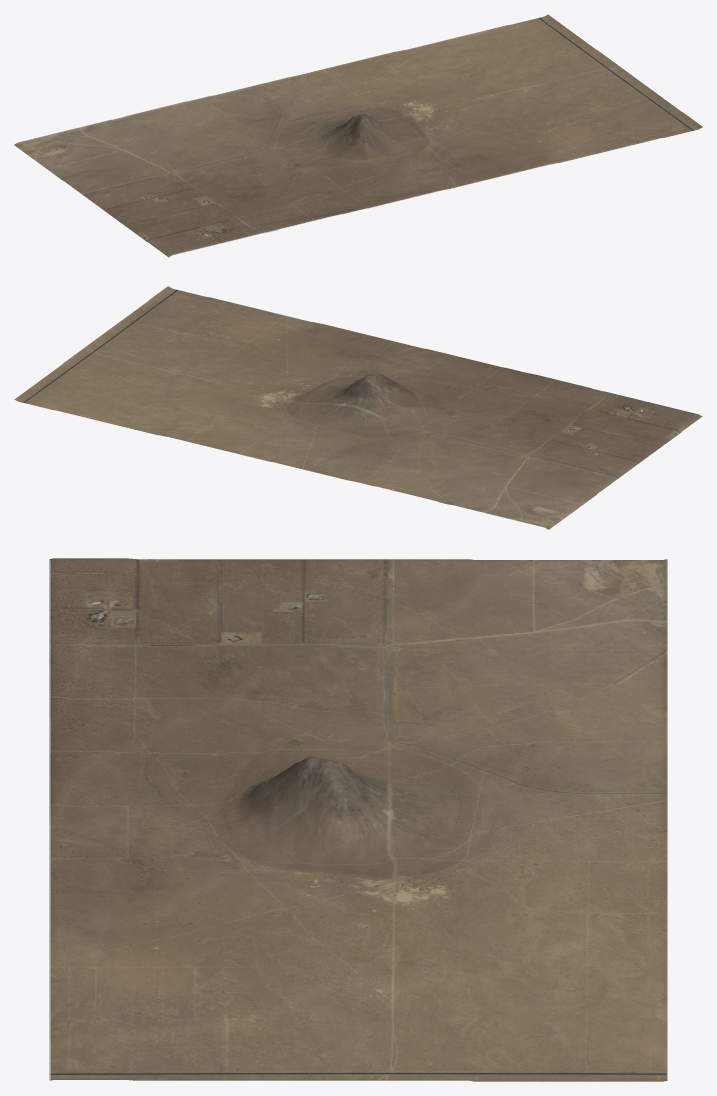
The model's file is Berg2.fbx.
The picture shows the model from 3 angles, top to bottom: view 1: azimuth 30°, elevation 25°; view 2: azimuth 150°, elevation 25°; view 3: azimuth 270°, elevation 25°; orthographic projection. The views are drawn at different scales.
Parts seen in each view (by area): view 1: Plane; view 2: Plane; view 3: Plane.
Boxes of the visible parts, bbox=[...] form: Plane: bbox=[14, 14, 702, 257]; Plane: bbox=[14, 286, 702, 529]; Plane: bbox=[49, 558, 667, 1081].
Bounding box in the file's own units: 10914 × 576 × 5466.
1 material, 1 textured.
